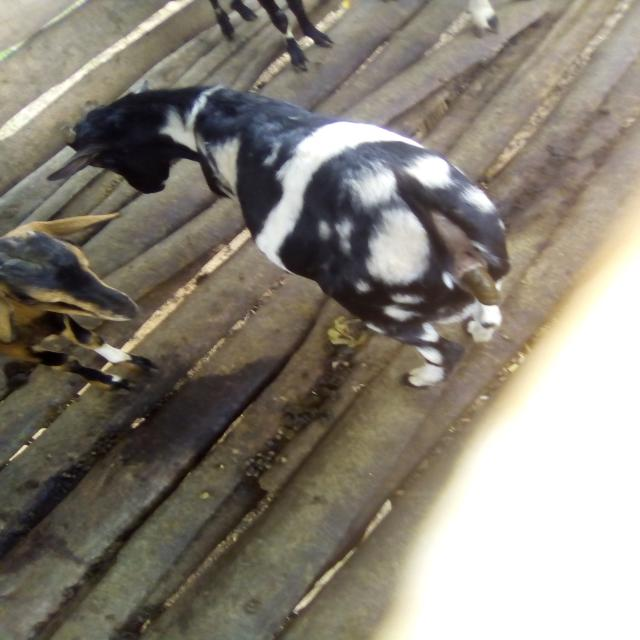goat: (37, 70, 602, 423)
